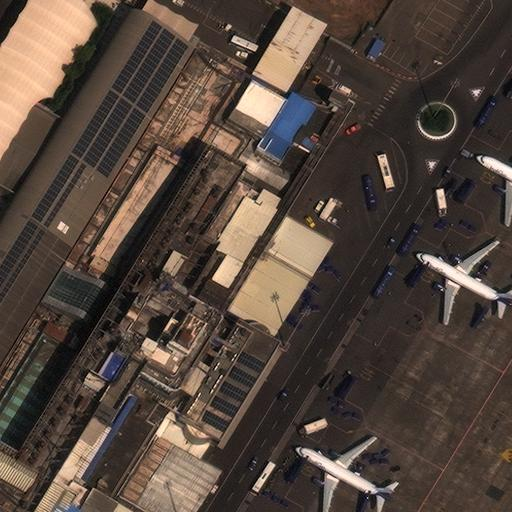Medium Civil Transport: (415, 241, 511, 324), (295, 437, 391, 511), (476, 151, 511, 225)
